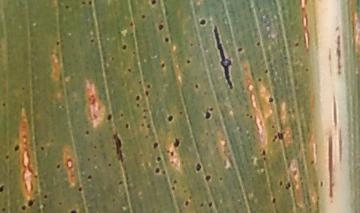tarspot: (213, 26, 233, 89), (112, 133, 124, 162), (336, 35, 342, 75), (174, 138, 180, 149), (13, 143, 20, 152), (278, 131, 284, 141), (106, 113, 113, 121), (167, 115, 174, 123), (199, 18, 206, 26), (154, 166, 161, 174), (195, 163, 201, 172), (205, 111, 211, 120), (267, 96, 274, 103), (334, 24, 341, 31), (117, 179, 124, 186), (205, 174, 211, 182), (153, 142, 159, 149), (156, 156, 162, 163), (285, 182, 291, 189), (21, 204, 27, 211), (32, 173, 39, 179), (202, 89, 208, 96), (298, 175, 304, 182), (256, 39, 261, 47), (273, 134, 278, 142), (28, 199, 33, 207), (64, 4, 70, 10), (142, 114, 148, 120), (158, 24, 164, 30), (160, 62, 166, 68), (55, 163, 61, 169), (146, 123, 152, 129), (237, 46, 243, 52), (304, 67, 310, 73), (320, 179, 324, 188), (87, 174, 93, 180), (77, 186, 83, 192), (145, 90, 150, 97), (164, 36, 169, 43), (272, 197, 277, 204), (208, 201, 213, 208), (184, 199, 189, 206), (205, 130, 210, 137), (279, 179, 283, 187), (119, 112, 124, 118), (121, 45, 127, 50), (127, 67, 132, 73), (135, 95, 140, 101), (141, 14, 146, 20), (186, 59, 191, 65), (40, 145, 45, 151), (140, 121, 145, 127), (209, 106, 214, 112), (264, 68, 269, 74), (310, 159, 315, 165), (173, 179, 178, 185), (111, 196, 116, 202), (49, 138, 55, 143), (162, 169, 166, 176), (70, 209, 77, 213), (21, 86, 26, 91), (81, 1, 86, 6), (90, 39, 95, 44), (110, 56, 115, 61), (146, 84, 151, 89), (151, 1, 156, 6), (189, 42, 194, 47), (86, 157, 91, 162), (93, 144, 98, 149), (85, 130, 90, 135), (107, 163, 112, 168), (144, 134, 149, 139), (257, 77, 262, 82), (295, 42, 300, 47), (200, 202, 205, 207), (188, 195, 193, 200), (171, 186, 176, 191), (43, 194, 48, 199), (1, 103, 7, 107), (56, 40, 60, 46), (195, 83, 199, 89), (5, 154, 9, 160), (125, 123, 129, 129), (262, 150, 266, 156), (1, 186, 5, 192), (88, 1, 92, 6), (136, 103, 140, 108), (143, 108, 148, 112), (138, 80, 142, 85), (130, 22, 134, 27), (245, 113, 250, 117), (263, 156, 267, 161), (271, 124, 275, 129), (182, 189, 187, 193), (58, 201, 62, 206), (171, 151, 174, 157), (171, 159, 174, 165), (179, 111, 183, 115), (132, 51, 136, 55), (220, 177, 223, 182), (3, 207, 6, 212), (250, 115, 253, 119), (167, 150, 170, 153)
